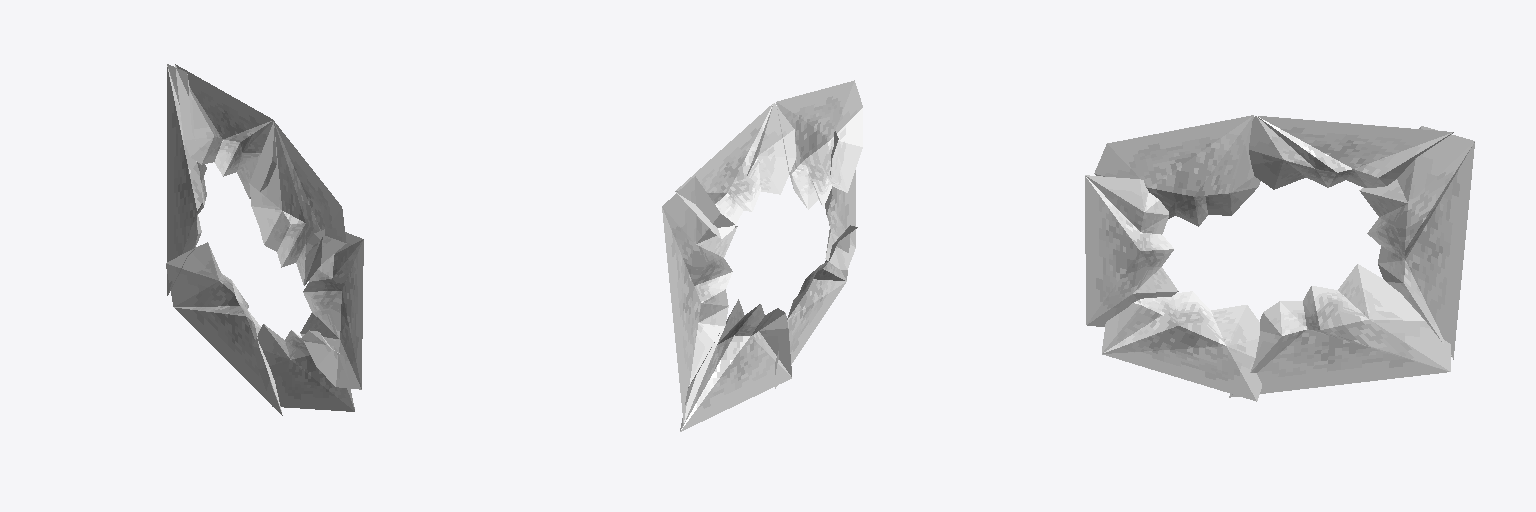
The picture shows the model from 3 angles: view 1: azimuth 30°, elevation 25°; view 2: azimuth 150°, elevation 25°; view 3: azimuth 270°, elevation 25°; orthographic projection.
Visible parts, largest first — view 1: level3; view 2: level3; view 3: level3.
Boxes of the visible parts, box(x1,y1,x2,y2) form: level3: box(166, 64, 363, 415); level3: box(662, 80, 862, 431); level3: box(1085, 115, 1474, 401).
Bounding box in the file's own units: 436 × 3726 × 4597.
Materials: 1 (1 with a texture image).